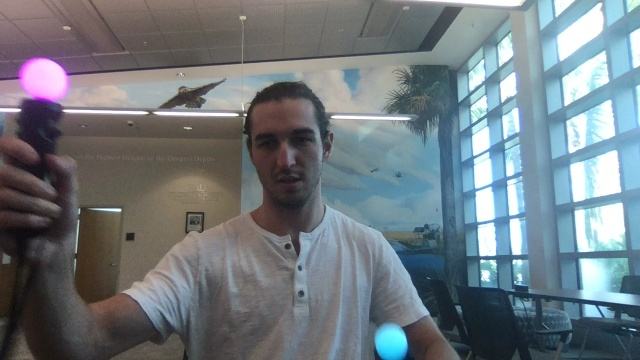wand: (22, 60, 69, 100), (377, 325, 408, 359)
